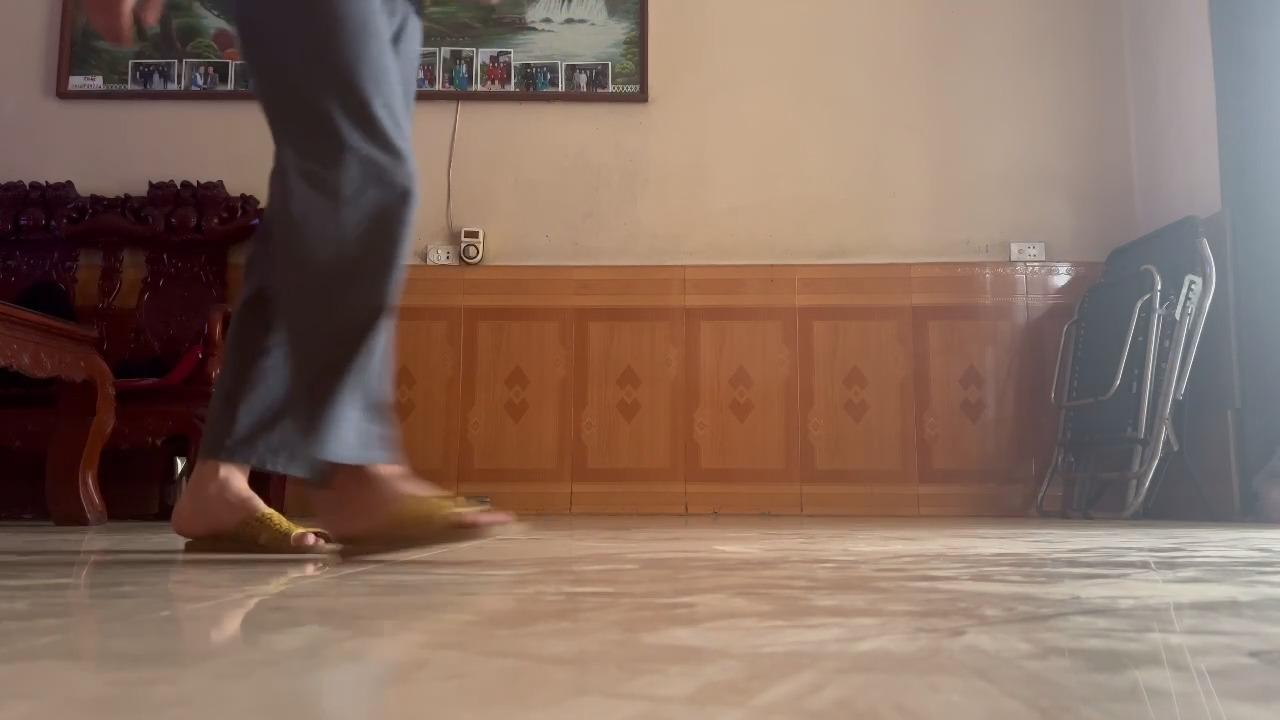no-boot: (322, 477, 530, 569), (160, 475, 320, 566)
